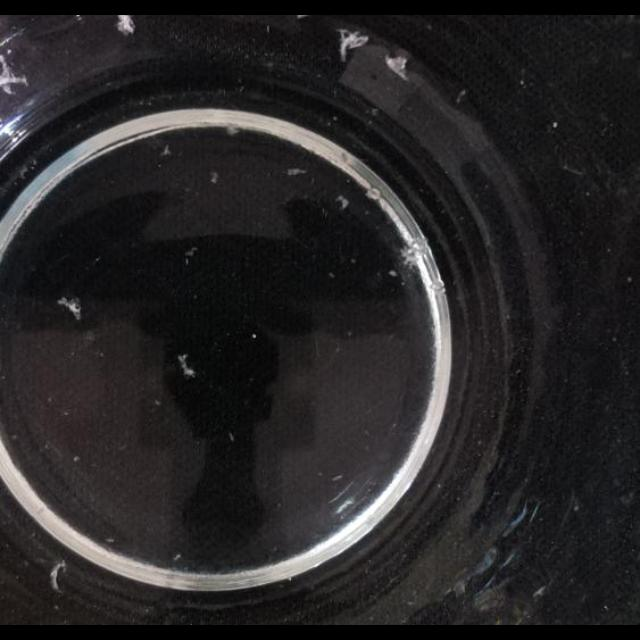Fibre: (336, 28, 369, 62), (116, 15, 136, 35), (335, 194, 349, 210), (456, 88, 468, 102), (286, 168, 306, 176), (209, 170, 219, 183)
microbeads: (57, 296, 83, 322), (534, 584, 548, 600), (388, 269, 398, 277), (104, 536, 114, 544), (73, 455, 81, 463), (328, 271, 336, 279), (229, 432, 235, 442), (154, 398, 160, 406), (552, 120, 558, 128), (251, 333, 257, 339)
